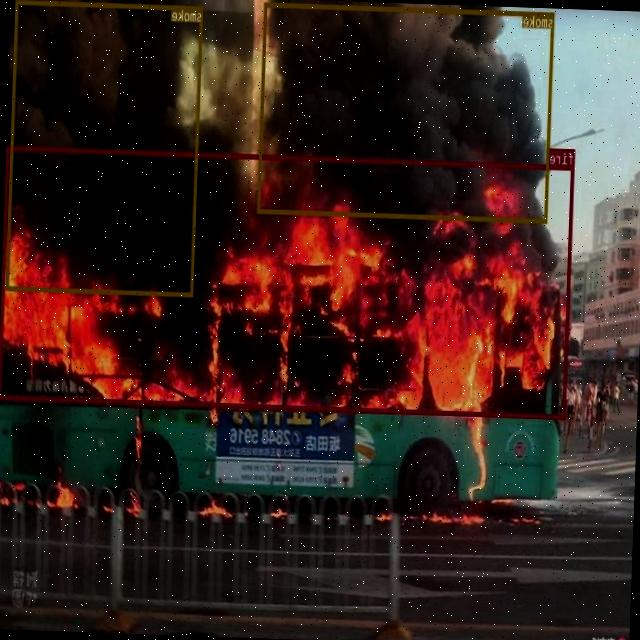fire: (0, 144, 575, 418)
smoke: (258, 1, 554, 223), (6, 0, 203, 295)
